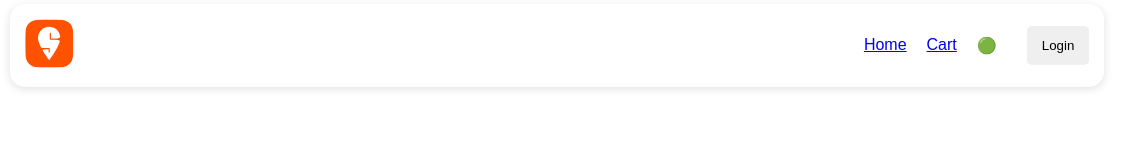
Test case: should change login button to logout when clicked in header component
Step 1. Click the button → (1058, 46), box [1027,26,1089,65]
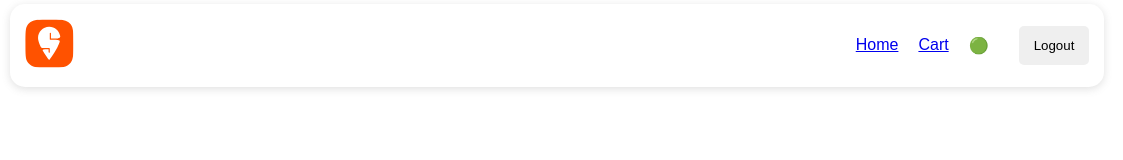
Now the button "Logout" is shown, box [1019,26,1089,65]
